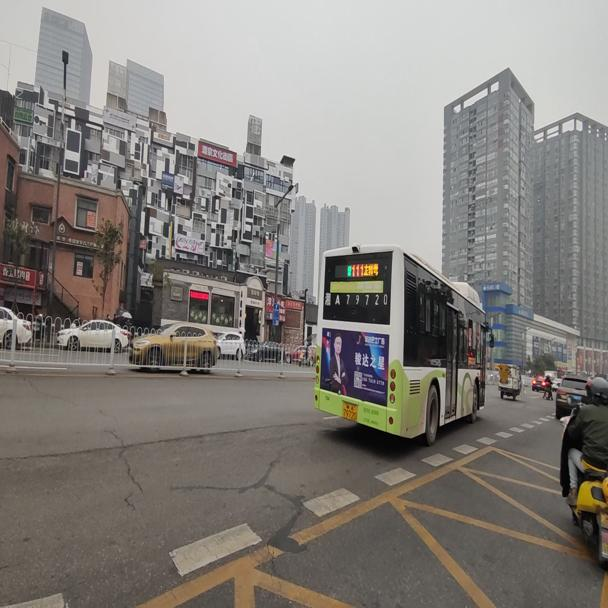bus: (309, 243, 494, 443)
screen: (350, 258, 365, 279)
